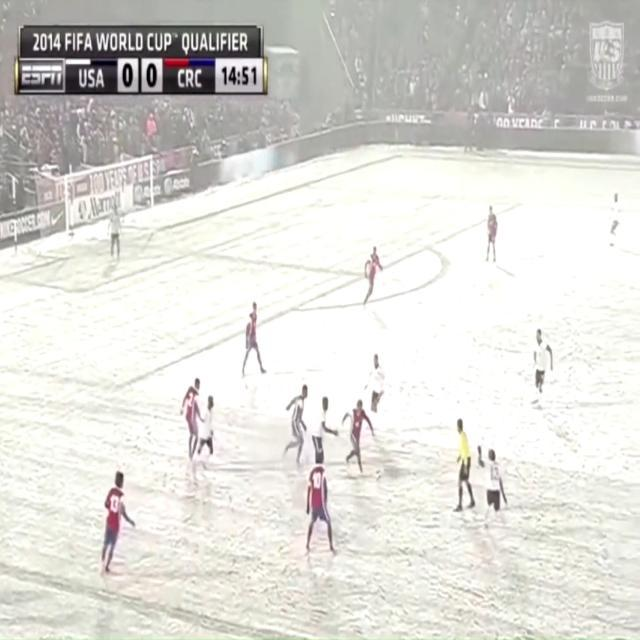ball: (373, 465, 384, 485)
goalkeeper: (104, 194, 128, 268)
player: (97, 461, 134, 596), (302, 453, 337, 556), (478, 441, 510, 542), (342, 393, 376, 483), (240, 294, 268, 394), (284, 372, 313, 465), (531, 321, 555, 414), (315, 392, 339, 485), (365, 348, 391, 428), (480, 206, 508, 275), (185, 375, 205, 470), (360, 239, 384, 313), (607, 186, 629, 263), (201, 395, 219, 475)
referee: (447, 408, 479, 516)
